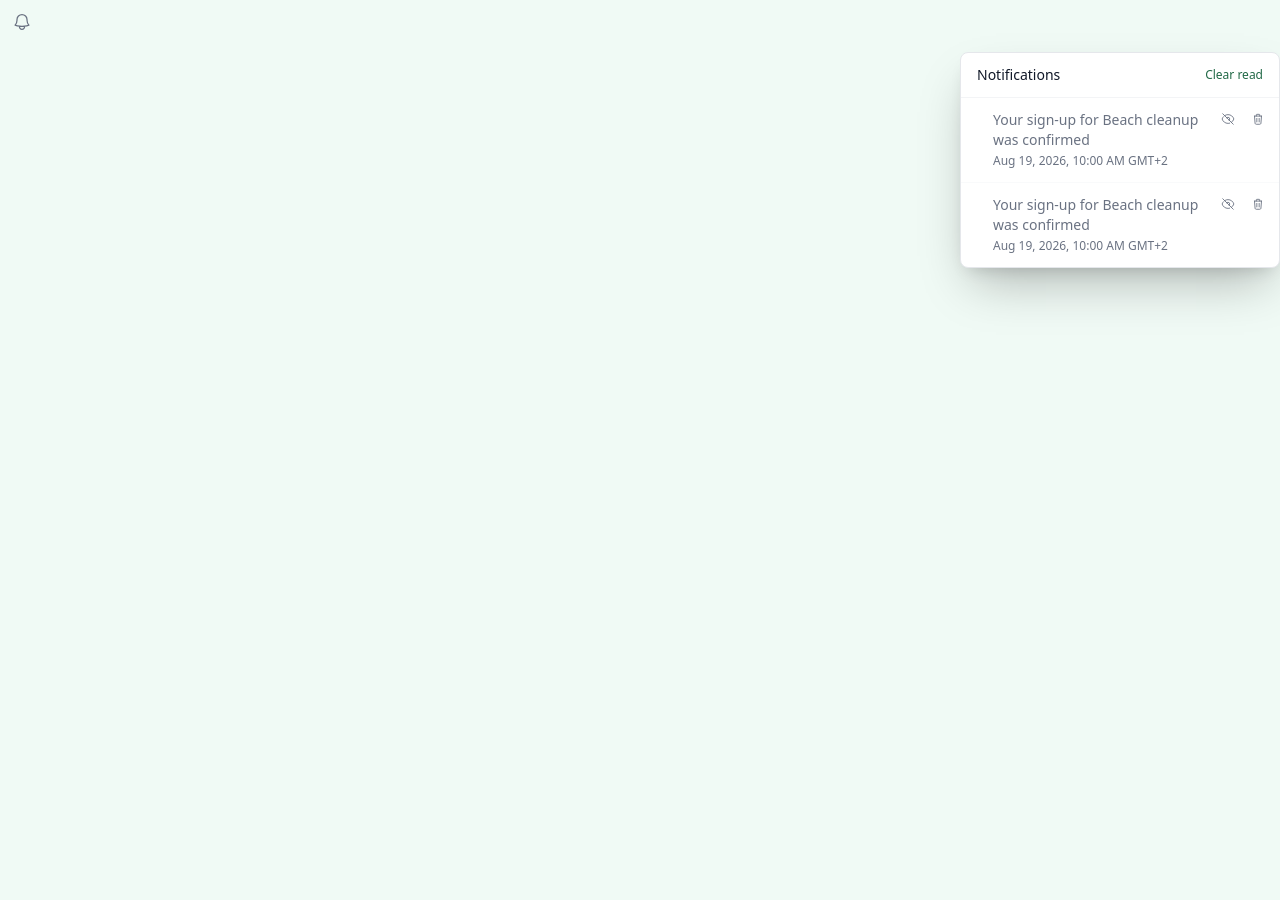
Test case: NotificationDropdown a11y › has no violations with the clear-read confirmation dialog open
Click the button "Clear read" at (1234, 75), box [1205, 67, 1263, 83]
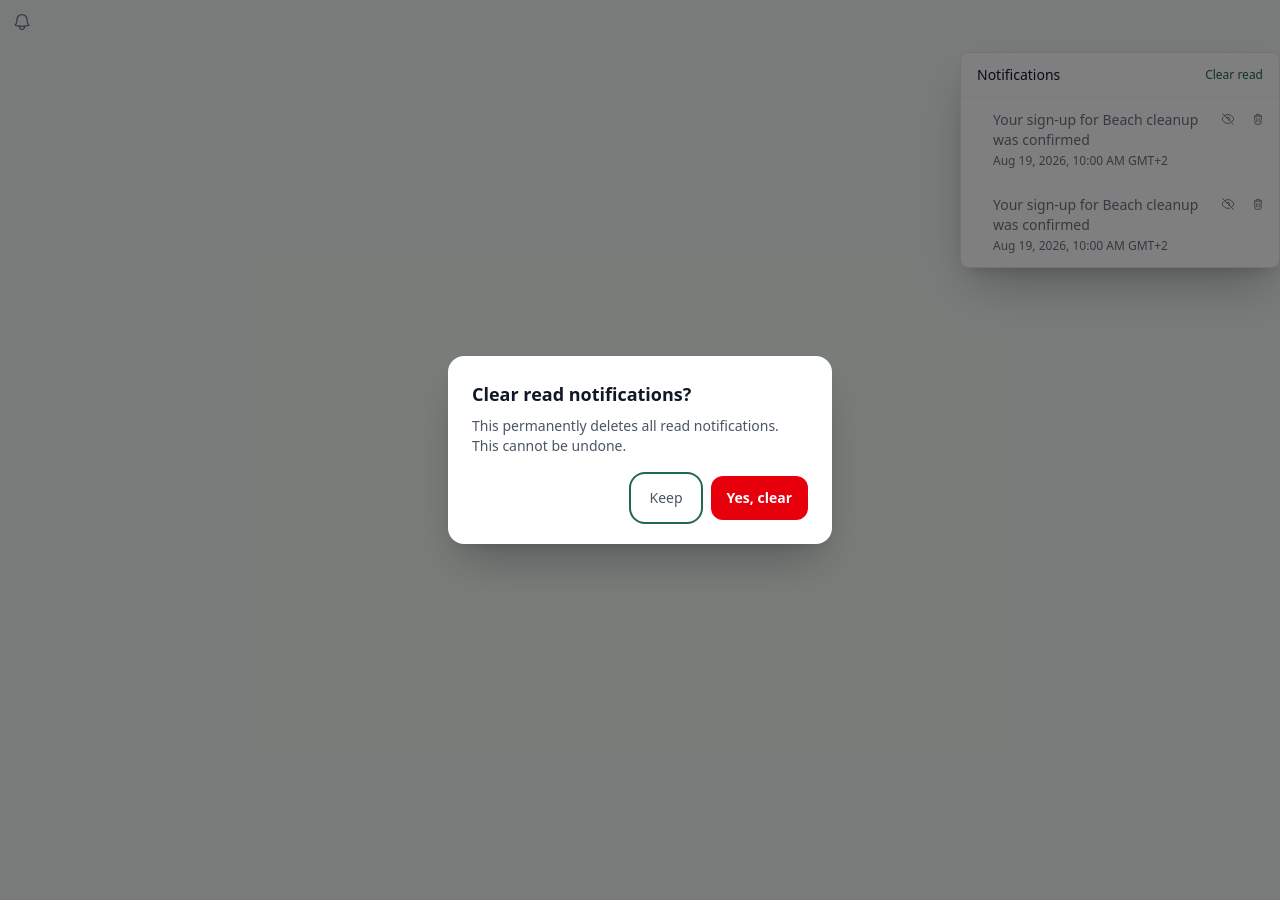
Result: the dialog is shown at [448, 356, 832, 544]
